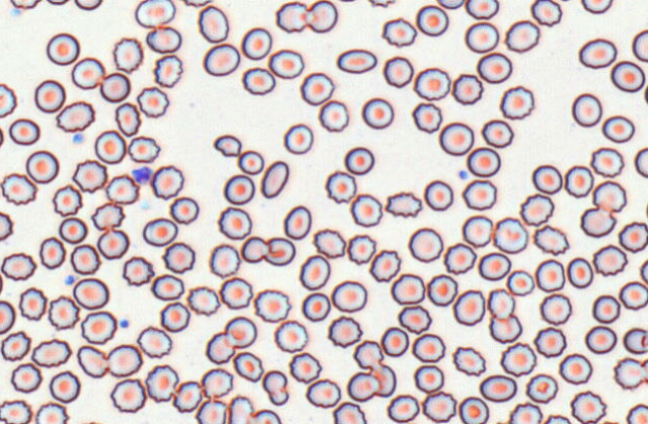PLT: (132, 166, 154, 185), (72, 132, 86, 145), (119, 317, 131, 330), (64, 274, 75, 284), (459, 169, 469, 180)
RBC: (492, 216, 528, 253), (144, 364, 179, 402), (109, 378, 146, 413), (253, 288, 291, 322), (55, 100, 95, 132), (407, 227, 443, 262), (80, 310, 117, 344), (569, 390, 607, 423), (202, 43, 240, 76), (197, 4, 229, 43), (500, 342, 536, 376), (71, 159, 107, 193), (438, 121, 474, 155), (0, 172, 37, 205), (413, 67, 450, 100), (107, 343, 142, 377), (150, 164, 184, 199), (499, 85, 534, 119), (136, 325, 172, 358), (452, 289, 485, 325), (504, 19, 540, 52), (72, 277, 109, 309), (578, 38, 617, 68), (31, 338, 71, 367), (273, 319, 308, 352), (519, 193, 554, 226), (217, 206, 252, 239), (331, 280, 367, 312), (134, 0, 175, 28), (112, 36, 143, 73), (47, 295, 80, 329), (219, 276, 253, 309), (25, 150, 59, 183), (349, 193, 382, 227), (300, 72, 334, 105), (327, 315, 362, 347), (592, 180, 627, 212), (390, 273, 425, 305), (94, 129, 126, 164), (592, 244, 627, 276), (610, 60, 645, 92), (464, 21, 499, 53), (580, 206, 616, 237), (299, 254, 330, 290), (533, 224, 569, 255), (461, 179, 497, 210), (268, 48, 304, 79), (476, 52, 512, 83), (260, 160, 289, 198), (613, 356, 646, 389), (76, 345, 109, 378), (46, 32, 79, 65), (208, 243, 240, 277), (71, 57, 105, 89), (421, 391, 456, 422), (571, 92, 602, 127), (305, 378, 341, 408), (381, 17, 417, 47), (479, 374, 517, 402), (346, 370, 379, 402), (224, 316, 257, 348), (48, 370, 80, 403), (369, 249, 401, 282), (461, 214, 493, 247), (539, 293, 572, 325), (162, 241, 195, 273), (443, 242, 476, 274), (136, 86, 169, 118), (361, 97, 394, 129), (415, 4, 448, 36), (558, 353, 592, 384), (534, 258, 565, 292), (466, 146, 500, 177), (34, 79, 65, 113), (142, 217, 178, 246), (384, 190, 422, 217), (275, 0, 307, 32), (305, 0, 337, 32), (426, 274, 458, 306), (200, 367, 233, 398), (288, 352, 321, 383), (96, 228, 129, 259), (325, 170, 356, 203), (533, 326, 566, 357), (152, 54, 183, 87), (318, 99, 349, 132), (241, 27, 272, 60), (488, 313, 522, 343), (186, 285, 220, 315), (452, 346, 486, 376), (312, 228, 346, 258), (590, 147, 624, 177), (0, 252, 36, 280), (145, 25, 181, 53), (336, 48, 376, 73), (172, 380, 203, 412), (10, 362, 42, 393), (122, 255, 154, 286), (70, 243, 101, 275), (451, 73, 483, 104), (205, 331, 235, 364), (386, 393, 419, 423), (525, 373, 558, 403), (564, 164, 594, 197), (397, 304, 431, 333), (411, 333, 445, 362), (241, 66, 275, 95), (283, 204, 311, 239), (0, 330, 31, 361), (232, 351, 263, 382), (159, 301, 190, 332), (99, 71, 130, 102), (411, 102, 442, 133), (52, 184, 82, 216), (223, 174, 255, 204), (423, 179, 453, 211), (18, 287, 47, 320), (584, 325, 617, 354), (368, 362, 396, 396), (91, 202, 125, 230), (352, 339, 383, 369), (346, 233, 376, 264), (531, 164, 562, 194), (283, 123, 313, 154), (383, 56, 413, 87), (481, 119, 513, 148), (478, 252, 511, 280), (127, 135, 160, 163), (602, 115, 635, 143), (114, 102, 141, 136), (264, 236, 295, 265), (413, 364, 444, 393), (618, 221, 647, 252), (8, 117, 40, 145), (39, 236, 66, 269), (151, 273, 184, 300), (618, 280, 647, 310), (380, 326, 409, 356), (344, 146, 374, 175), (487, 288, 515, 319), (566, 256, 593, 288), (301, 292, 330, 321), (169, 196, 199, 224), (458, 396, 489, 423), (530, 0, 562, 26), (195, 398, 228, 423), (58, 216, 87, 244), (592, 294, 620, 323), (240, 235, 268, 263), (34, 401, 69, 423), (0, 399, 32, 423), (227, 395, 254, 423), (506, 269, 534, 296), (508, 401, 542, 423), (332, 401, 366, 423), (237, 149, 264, 175), (622, 327, 647, 354), (465, 0, 499, 19), (0, 83, 17, 118), (631, 29, 647, 62), (0, 300, 15, 334), (247, 408, 281, 423), (580, 0, 613, 14), (626, 403, 647, 423), (634, 146, 647, 178), (0, 211, 13, 241), (542, 413, 571, 423), (9, 0, 41, 9), (74, 0, 102, 10), (435, 0, 464, 9), (639, 258, 648, 284), (181, 0, 213, 7), (367, 0, 395, 8), (640, 358, 648, 383), (643, 82, 648, 105), (46, 0, 69, 5), (81, 420, 105, 424), (0, 271, 4, 295), (0, 125, 4, 148), (598, 420, 620, 424), (645, 194, 648, 221), (336, 0, 358, 2)
Schistocyte: (264, 370, 289, 406), (212, 134, 241, 158)
